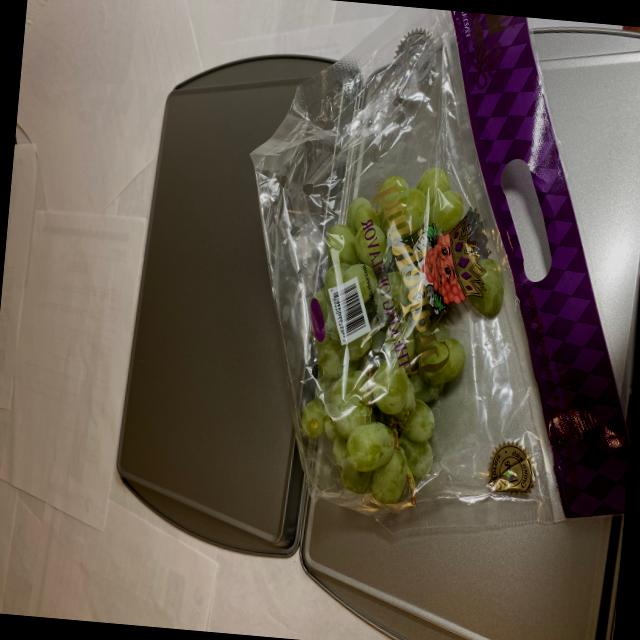grapes: (293, 164, 495, 536)
